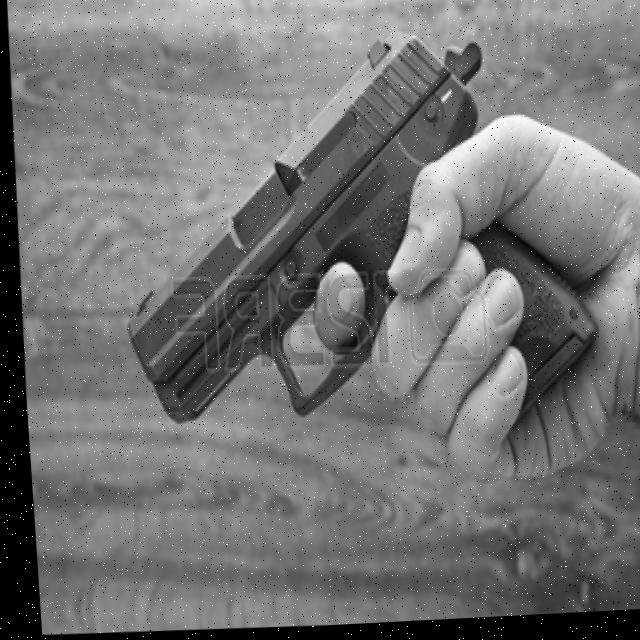pistol: (102, 19, 501, 434)
